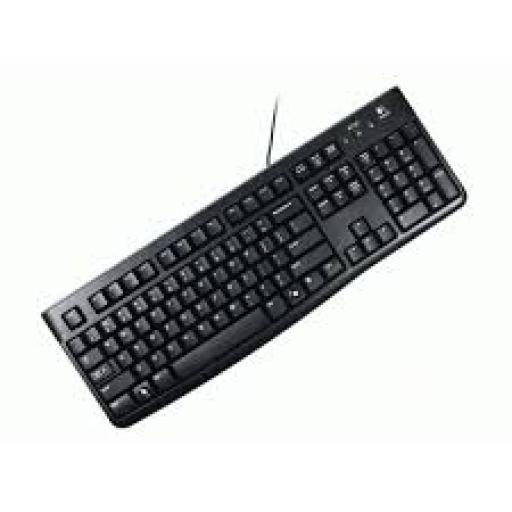KEYBOARD-2: (34, 80, 442, 434), (478, 426, 487, 427)
